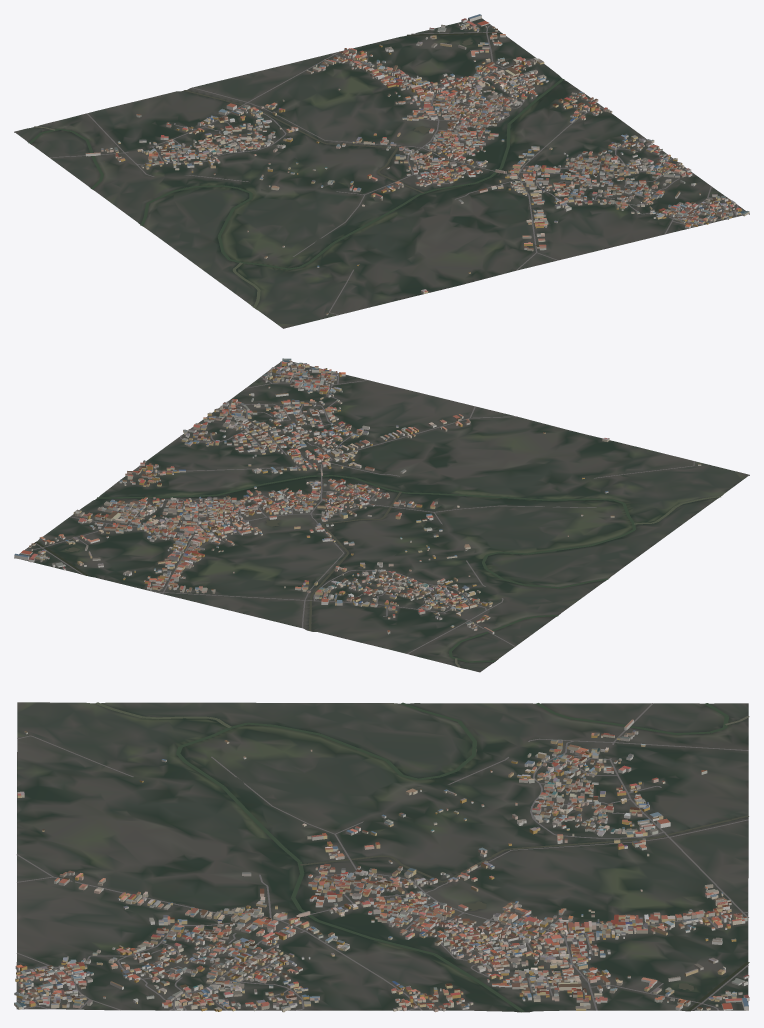
The picture shows the model from 3 angles, top to bottom: view 1: azimuth 30°, elevation 25°; view 2: azimuth 150°, elevation 25°; view 3: azimuth 270°, elevation 25°; orthographic projection. The views are drawn at different scales.
Visible parts, largest first — view 1: ground, buildings, roads, water; view 2: ground, buildings, roads, water; view 3: ground, buildings, roads, water.
Boxes of the visible parts, x1,y1,x2,y2 form: ground: (14, 18, 749, 328); buildings: (85, 14, 749, 315); roads: (49, 25, 744, 314); water: (28, 33, 564, 307); ground: (14, 361, 749, 672); buildings: (14, 358, 701, 634); roads: (25, 361, 694, 653); water: (35, 475, 720, 667); ground: (16, 702, 748, 1012); buildings: (14, 719, 749, 1012); roads: (16, 703, 748, 1010); water: (95, 702, 749, 1012).
Bounding box in the file's own units: 1410 × 17.53 × 1410.
